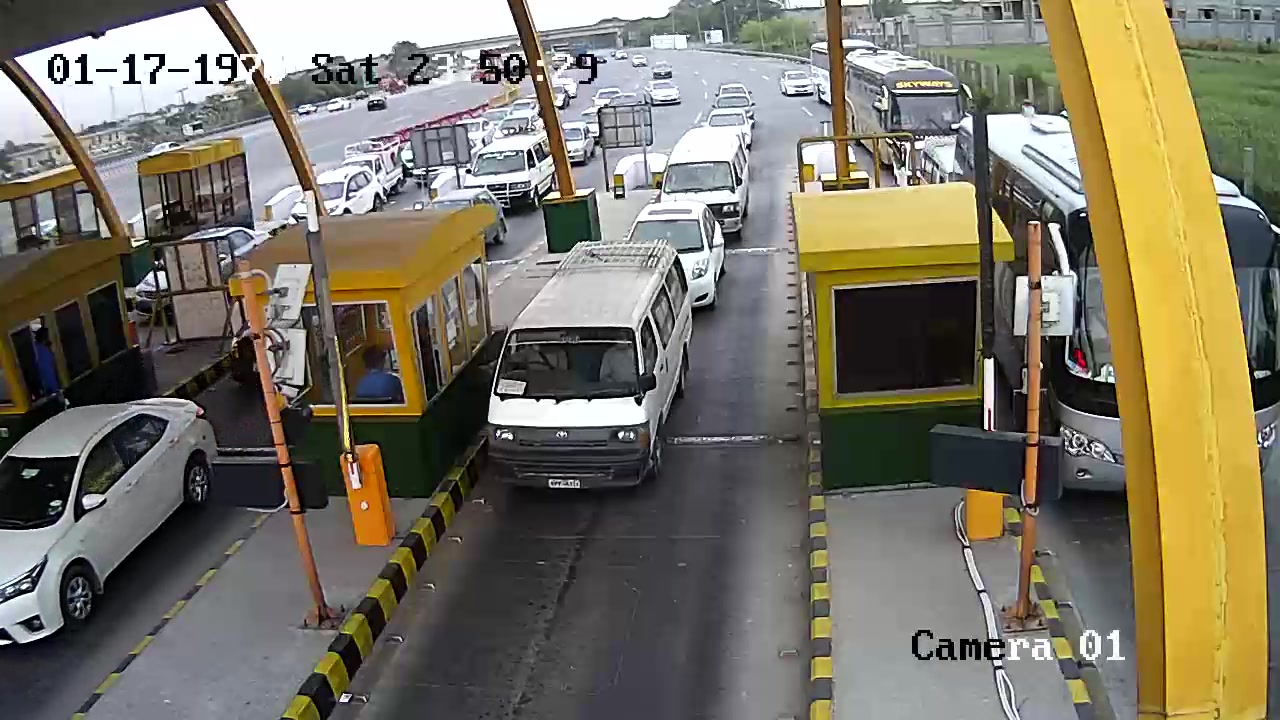F3: (483, 237, 701, 502)
